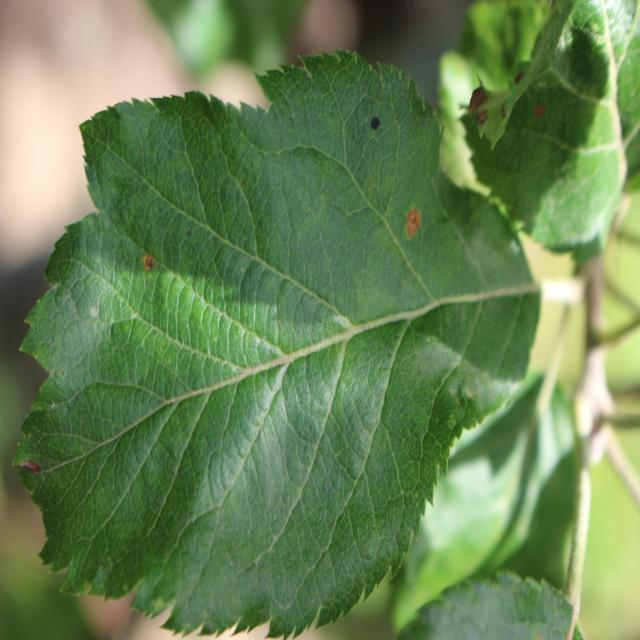Rust: (388, 190, 434, 248), (119, 249, 173, 290), (522, 81, 557, 127)
